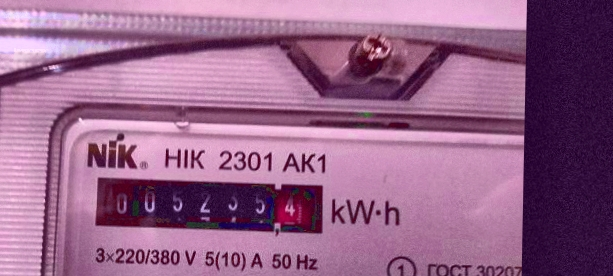0: (113, 189, 129, 215), (142, 187, 156, 213)
2: (197, 188, 211, 213)
3: (225, 186, 239, 211)
4: (282, 191, 297, 217)
5: (252, 188, 267, 215), (169, 187, 184, 213)
screen: (85, 167, 334, 241)
